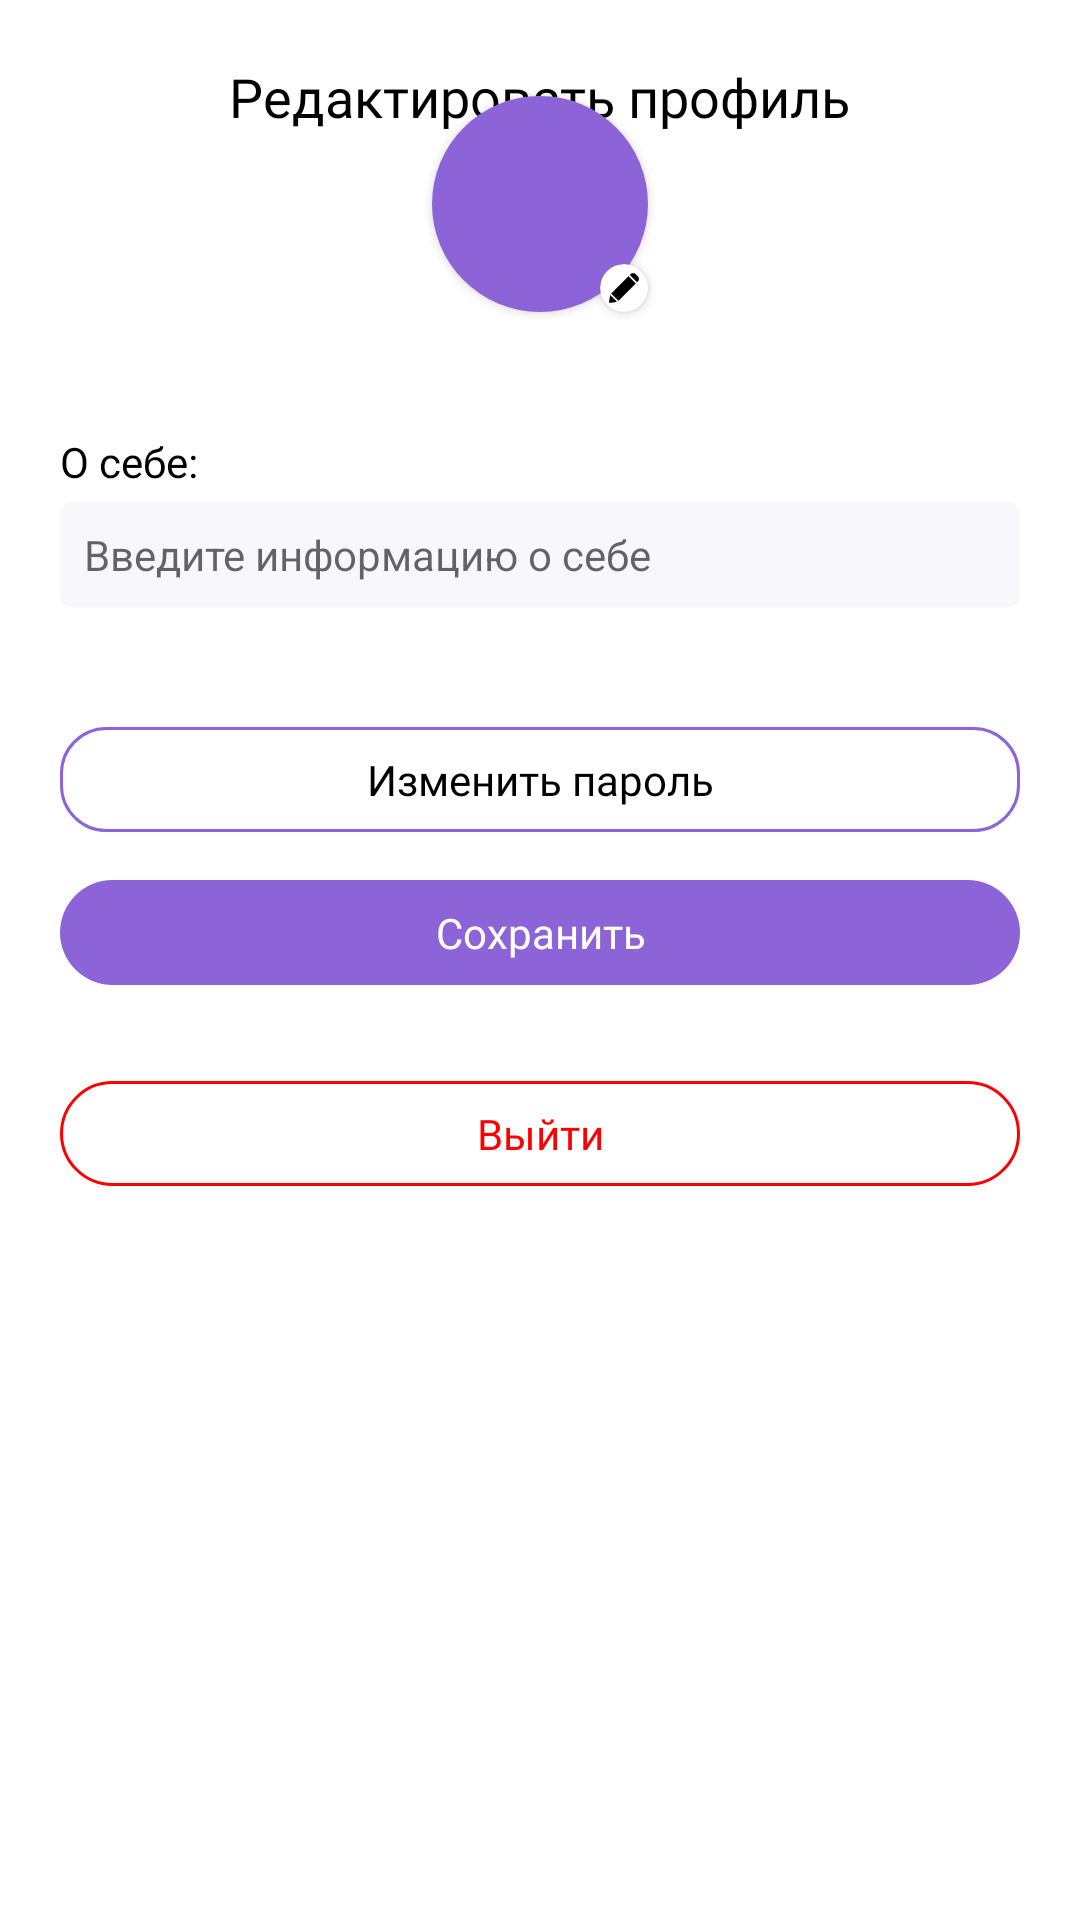

Screen size 1080px x 1920px. Icon name, then its center in pixels as [x,y]:
pencil: [625,292]
